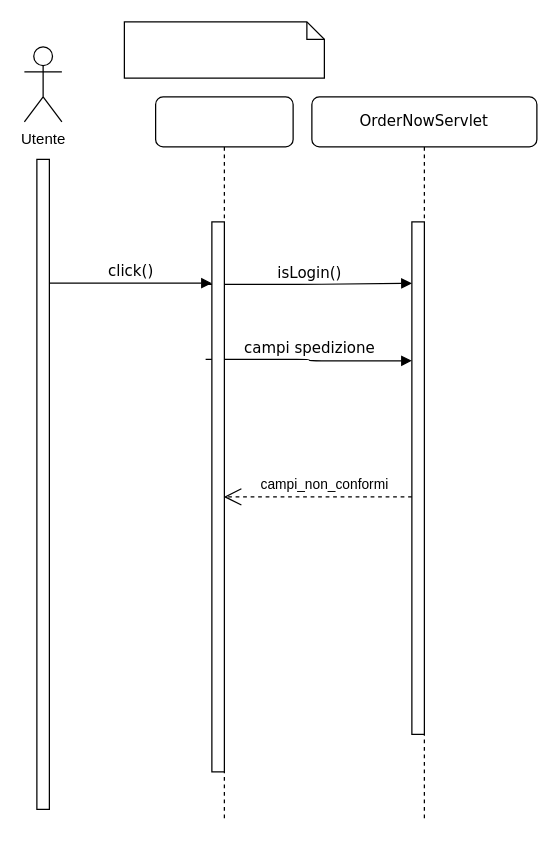
This 559x844 diagram has some shape labels left out. The centre of each missing label's shape, as x and y in pixels:
acquisto_singolo: [223,459]
acquisto_singolo.jsp: [223,49]
